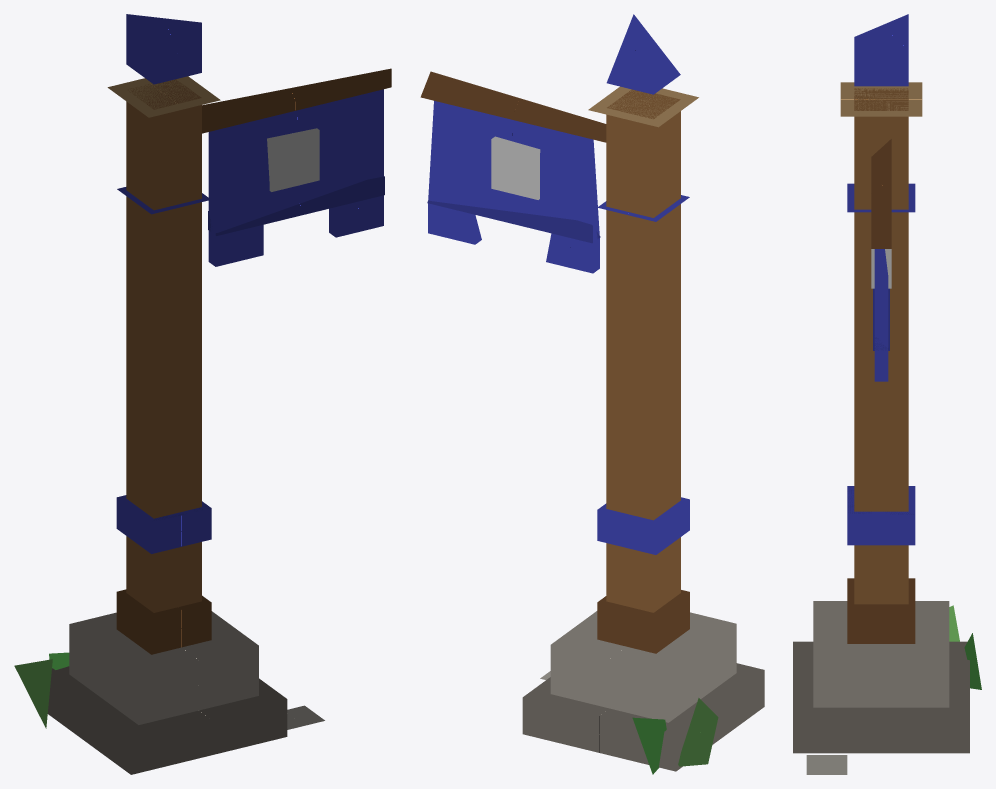
File: territory-marker-bat_lod1.glb
3 renders of one model, left to right at view 1: azimuth 30°, elevation 25°; view 2: azimuth 150°, elevation 25°; view 3: azimuth 270°, elevation 25°, orthographic. The views are drawn at different scales.
Parts seen in each view (by area): view 1: marker-post, banner; view 2: marker-post, banner; view 3: marker-post, banner.
Boxes of the visible parts, left/top/right/bottom form: marker-post: left=14, top=14, right=324, bottom=774; banner: left=202, top=68, right=391, bottom=266; marker-post: left=522, top=14, right=764, bottom=774; banner: left=420, top=71, right=606, bottom=273; marker-post: left=793, top=14, right=981, bottom=774; banner: left=871, top=139, right=891, bottom=381.
Size of the model in its own units: 0.5581 by 1.12 by 0.2778.
